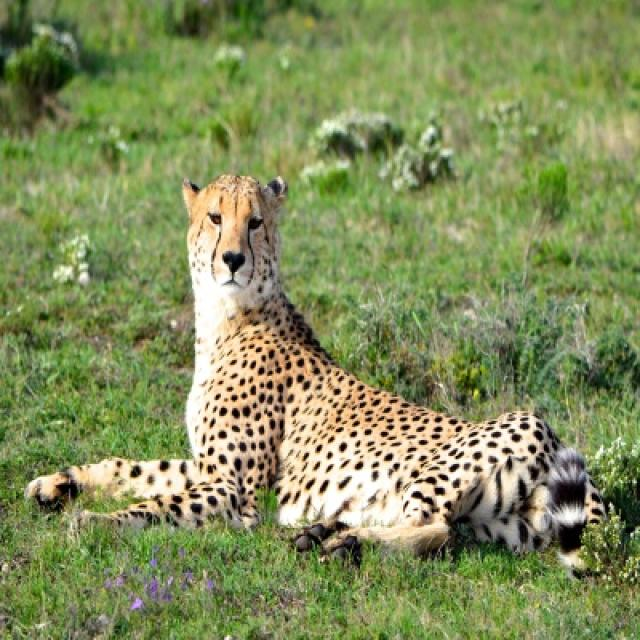Cheetah: (27, 174, 602, 577)
